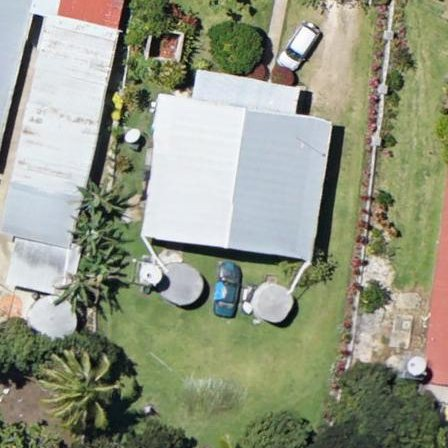palm_tree: (39, 348, 119, 433)
